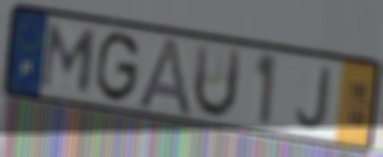1: (252, 51, 279, 130)
A: (132, 34, 194, 119)
G: (93, 29, 142, 105)
J: (294, 63, 336, 132)
M: (37, 20, 100, 96)
U: (191, 41, 245, 122)
